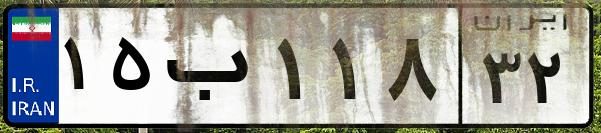1: (270, 28, 330, 110), (330, 28, 385, 110), (57, 26, 110, 100)
2: (525, 38, 570, 115)
3: (475, 38, 525, 113)
5: (110, 28, 158, 98)
8: (385, 28, 445, 110)
ب: (158, 20, 270, 120)
